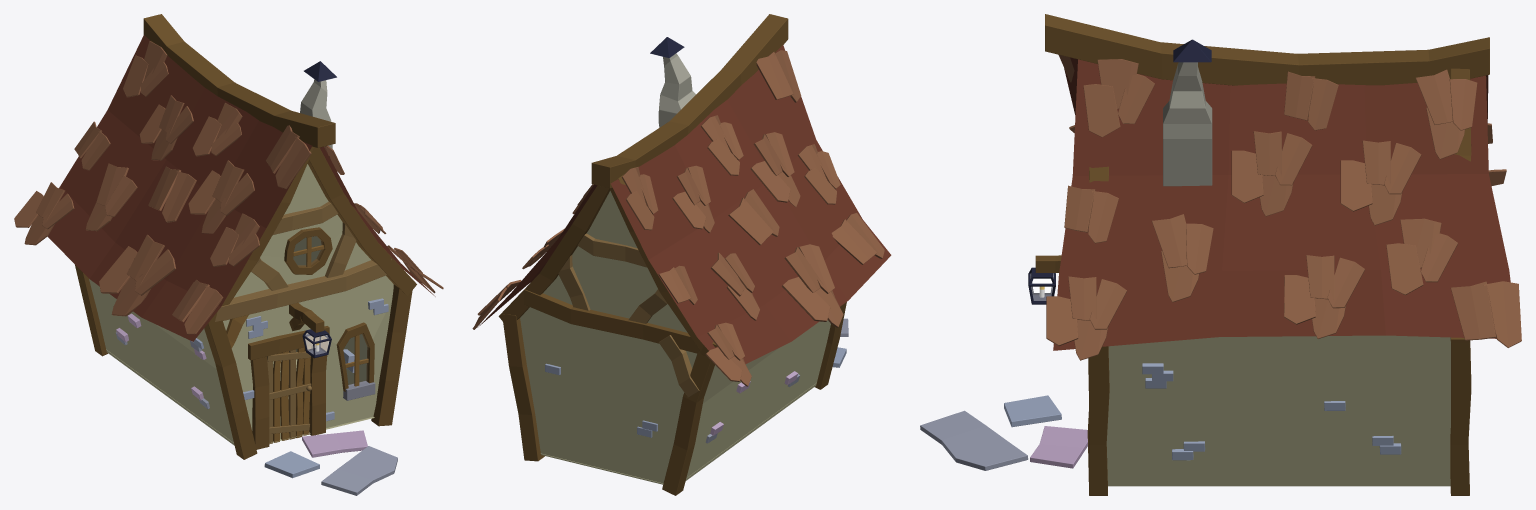
File: cottage.fbx
The picture shows the model from 3 angles, left to right: view 1: azimuth 30°, elevation 25°; view 2: azimuth 150°, elevation 25°; view 3: azimuth 270°, elevation 25°; orthographic projection. The views are drawn at different scales.
Visible parts, largest first — view 1: Cube.068; view 2: Cube.068; view 3: Cube.068.
Boxes of the visible parts, x1,y1,x2,y2 form: Cube.068: (14,14,443,495); Cube.068: (472,14,891,495); Cube.068: (920,14,1521,495).
Bounding box in the file's own units: 355 × 448 × 559.
